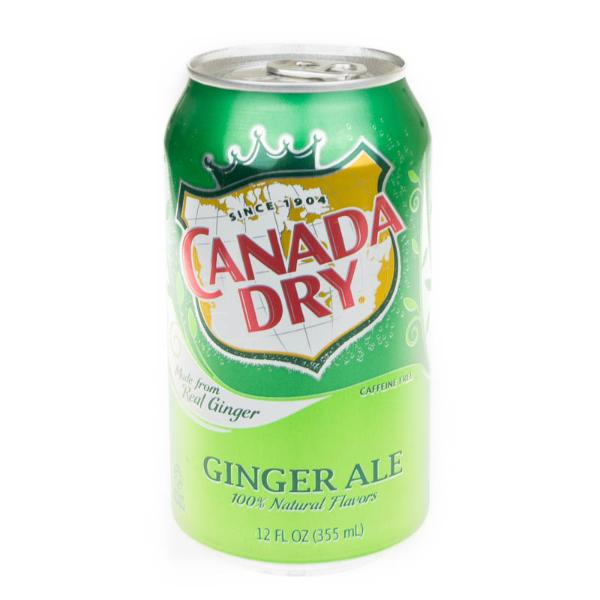Lata: (157, 39, 439, 574)
